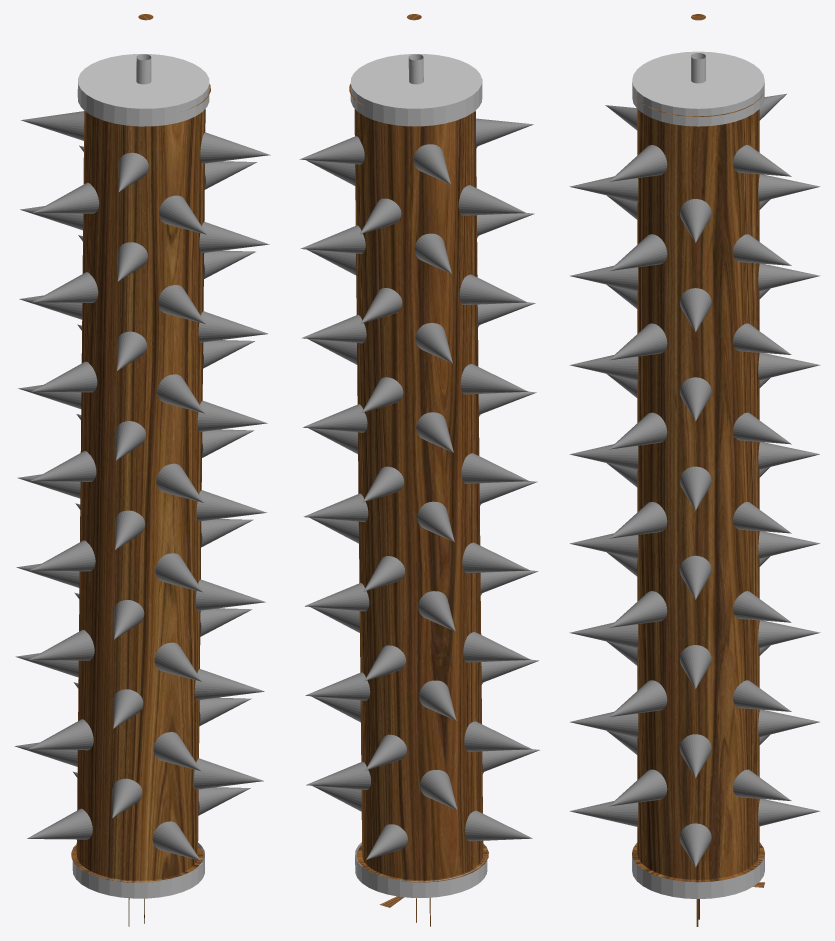
File: SpikeRolling.fbx
The picture shows the model from 3 angles, left to right: view 1: azimuth 30°, elevation 25°; view 2: azimuth 150°, elevation 25°; view 3: azimuth 270°, elevation 25°; orthographic projection.
Visible parts, largest first — view 1: Cone.003; view 2: Cone.003; view 3: Cone.003.
Part boxes in pixels (x1,y1,x2,y2): Cone.003: (14,14,270,926); Cone.003: (299,14,539,926); Cone.003: (569,14,820,926).
Bounding box in the file's own units: 501 × 1889 × 473.
